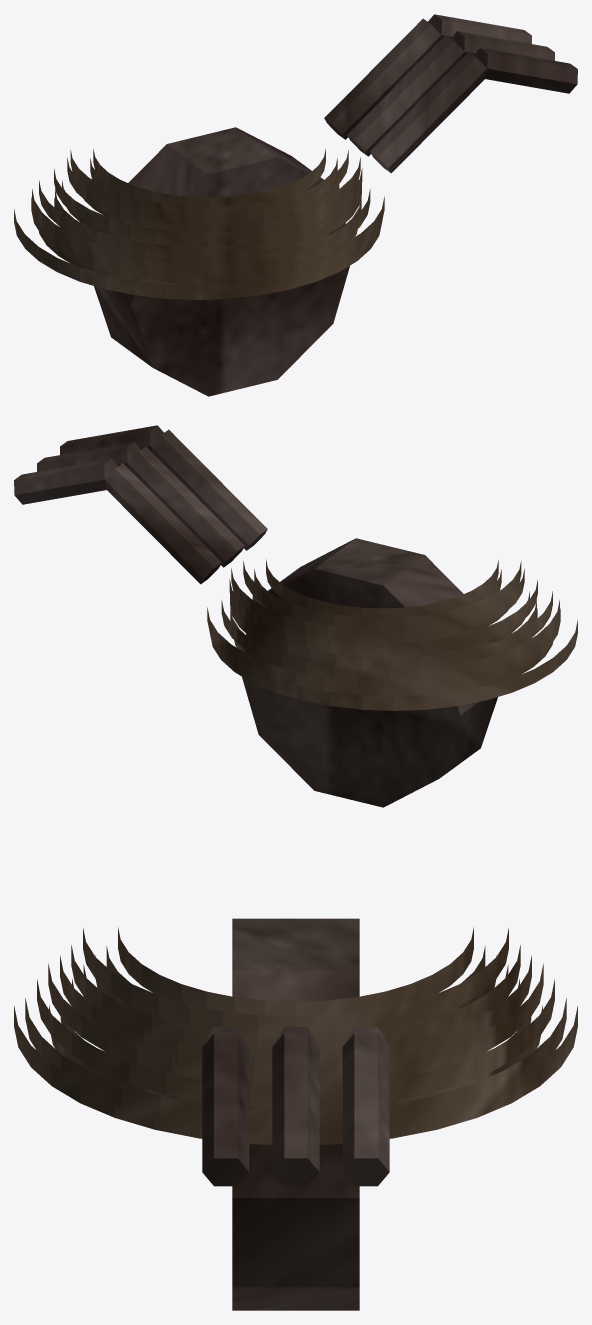
The model's file is 0957_rope_coil_07.glb.
The picture shows the model from 3 angles, top to bottom: view 1: azimuth 30°, elevation 25°; view 2: azimuth 150°, elevation 25°; view 3: azimuth 270°, elevation 25°; orthographic projection. The views are drawn at different scales.
Parts seen in each view (by area): view 1: wood_dark, wood; view 2: wood_dark, wood; view 3: wood, wood_dark.
Part boxes in pixels (bbox=[...]): wood_dark: bbox=[94, 14, 577, 396]; wood: bbox=[14, 148, 384, 299]; wood_dark: bbox=[14, 425, 497, 807]; wood: bbox=[207, 559, 577, 710]; wood: bbox=[14, 927, 577, 1144]; wood_dark: bbox=[202, 918, 389, 1310].
Bounding box in the file's own units: 1.42 × 0.744 × 0.8839.
2 materials, 2 textured.
